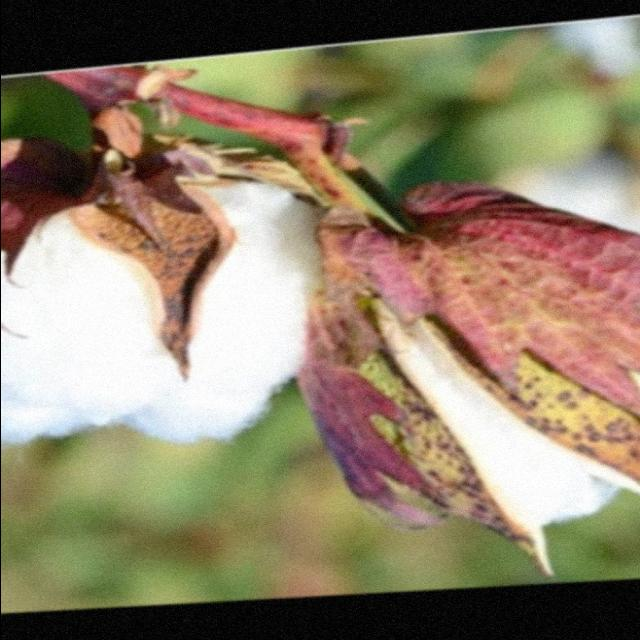Matured Cotton Boll: (1, 127, 323, 439)
Split Cotton Boll: (306, 198, 640, 552)
